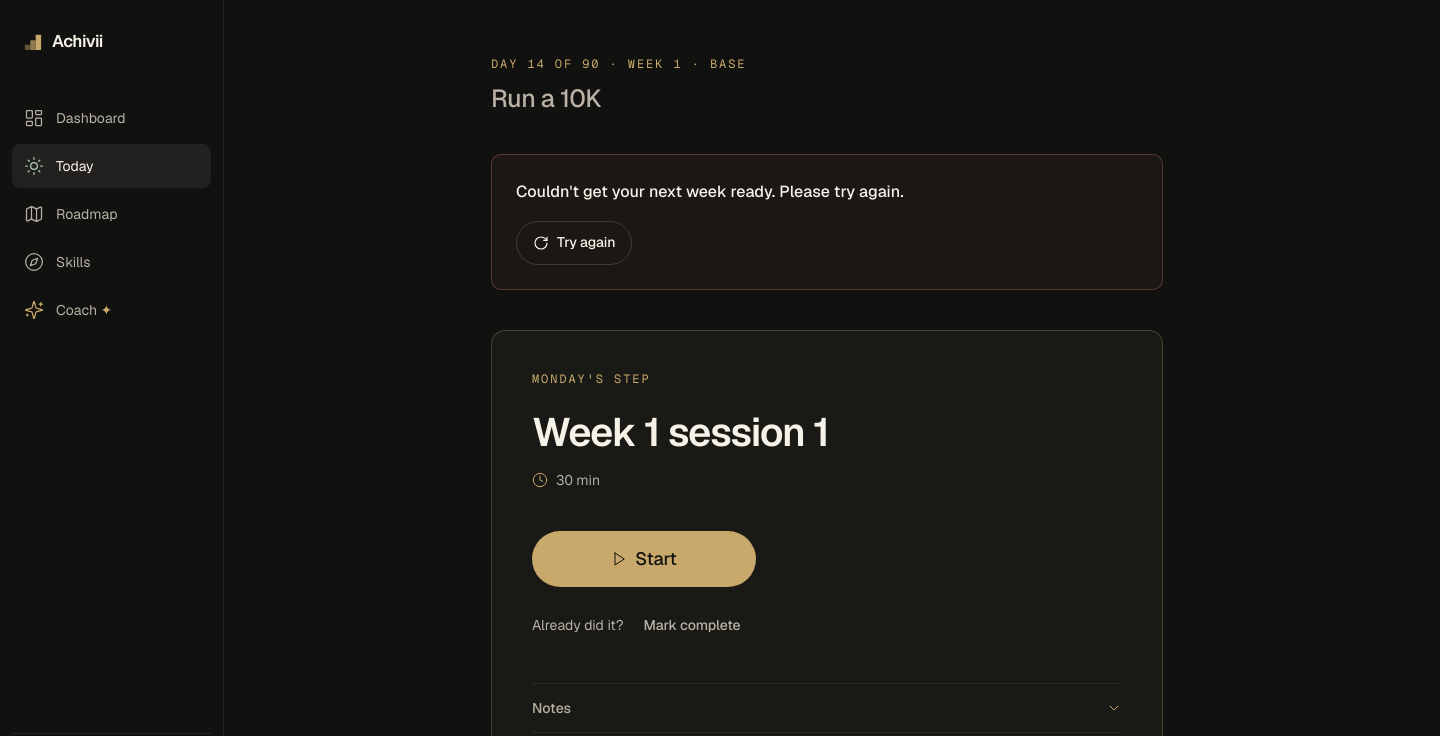
Test: getting ready, a failed close and the line once (RULE-8, RULE-9, WU-28) › a 503 shows the failure state over the plan as stored; Try again closes, reconciles and fetches
The width and height of the screenshot is (1440, 736).
expect the text "Couldn't get your next week ready. Please try again." is shown: met, box [516, 181, 904, 202]
expect the heading "Run a 10K" is shown: met, box [491, 82, 601, 114]
Click the button "Try again" at (574, 242), box [516, 220, 632, 264]
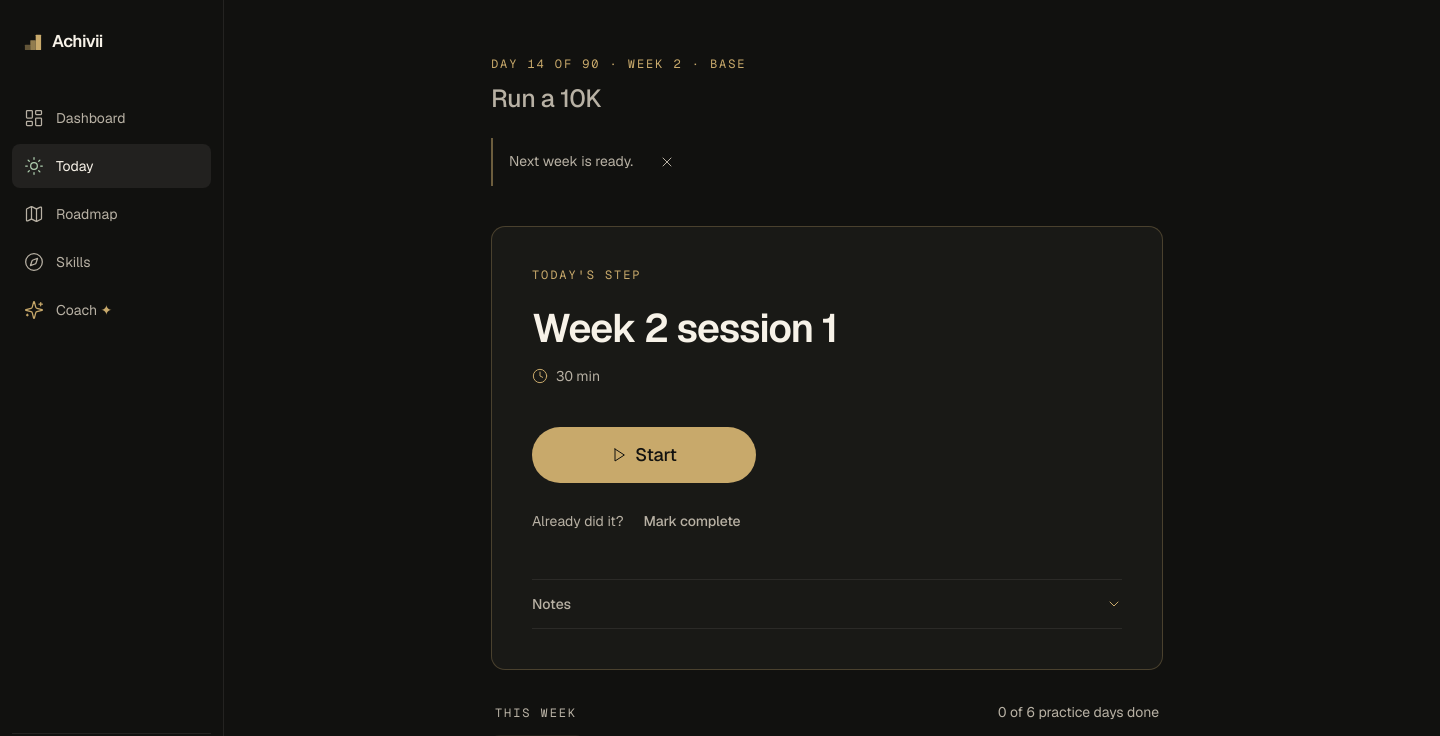
expect the text "Couldn't get your next week ready. Please try again." is gone: met
